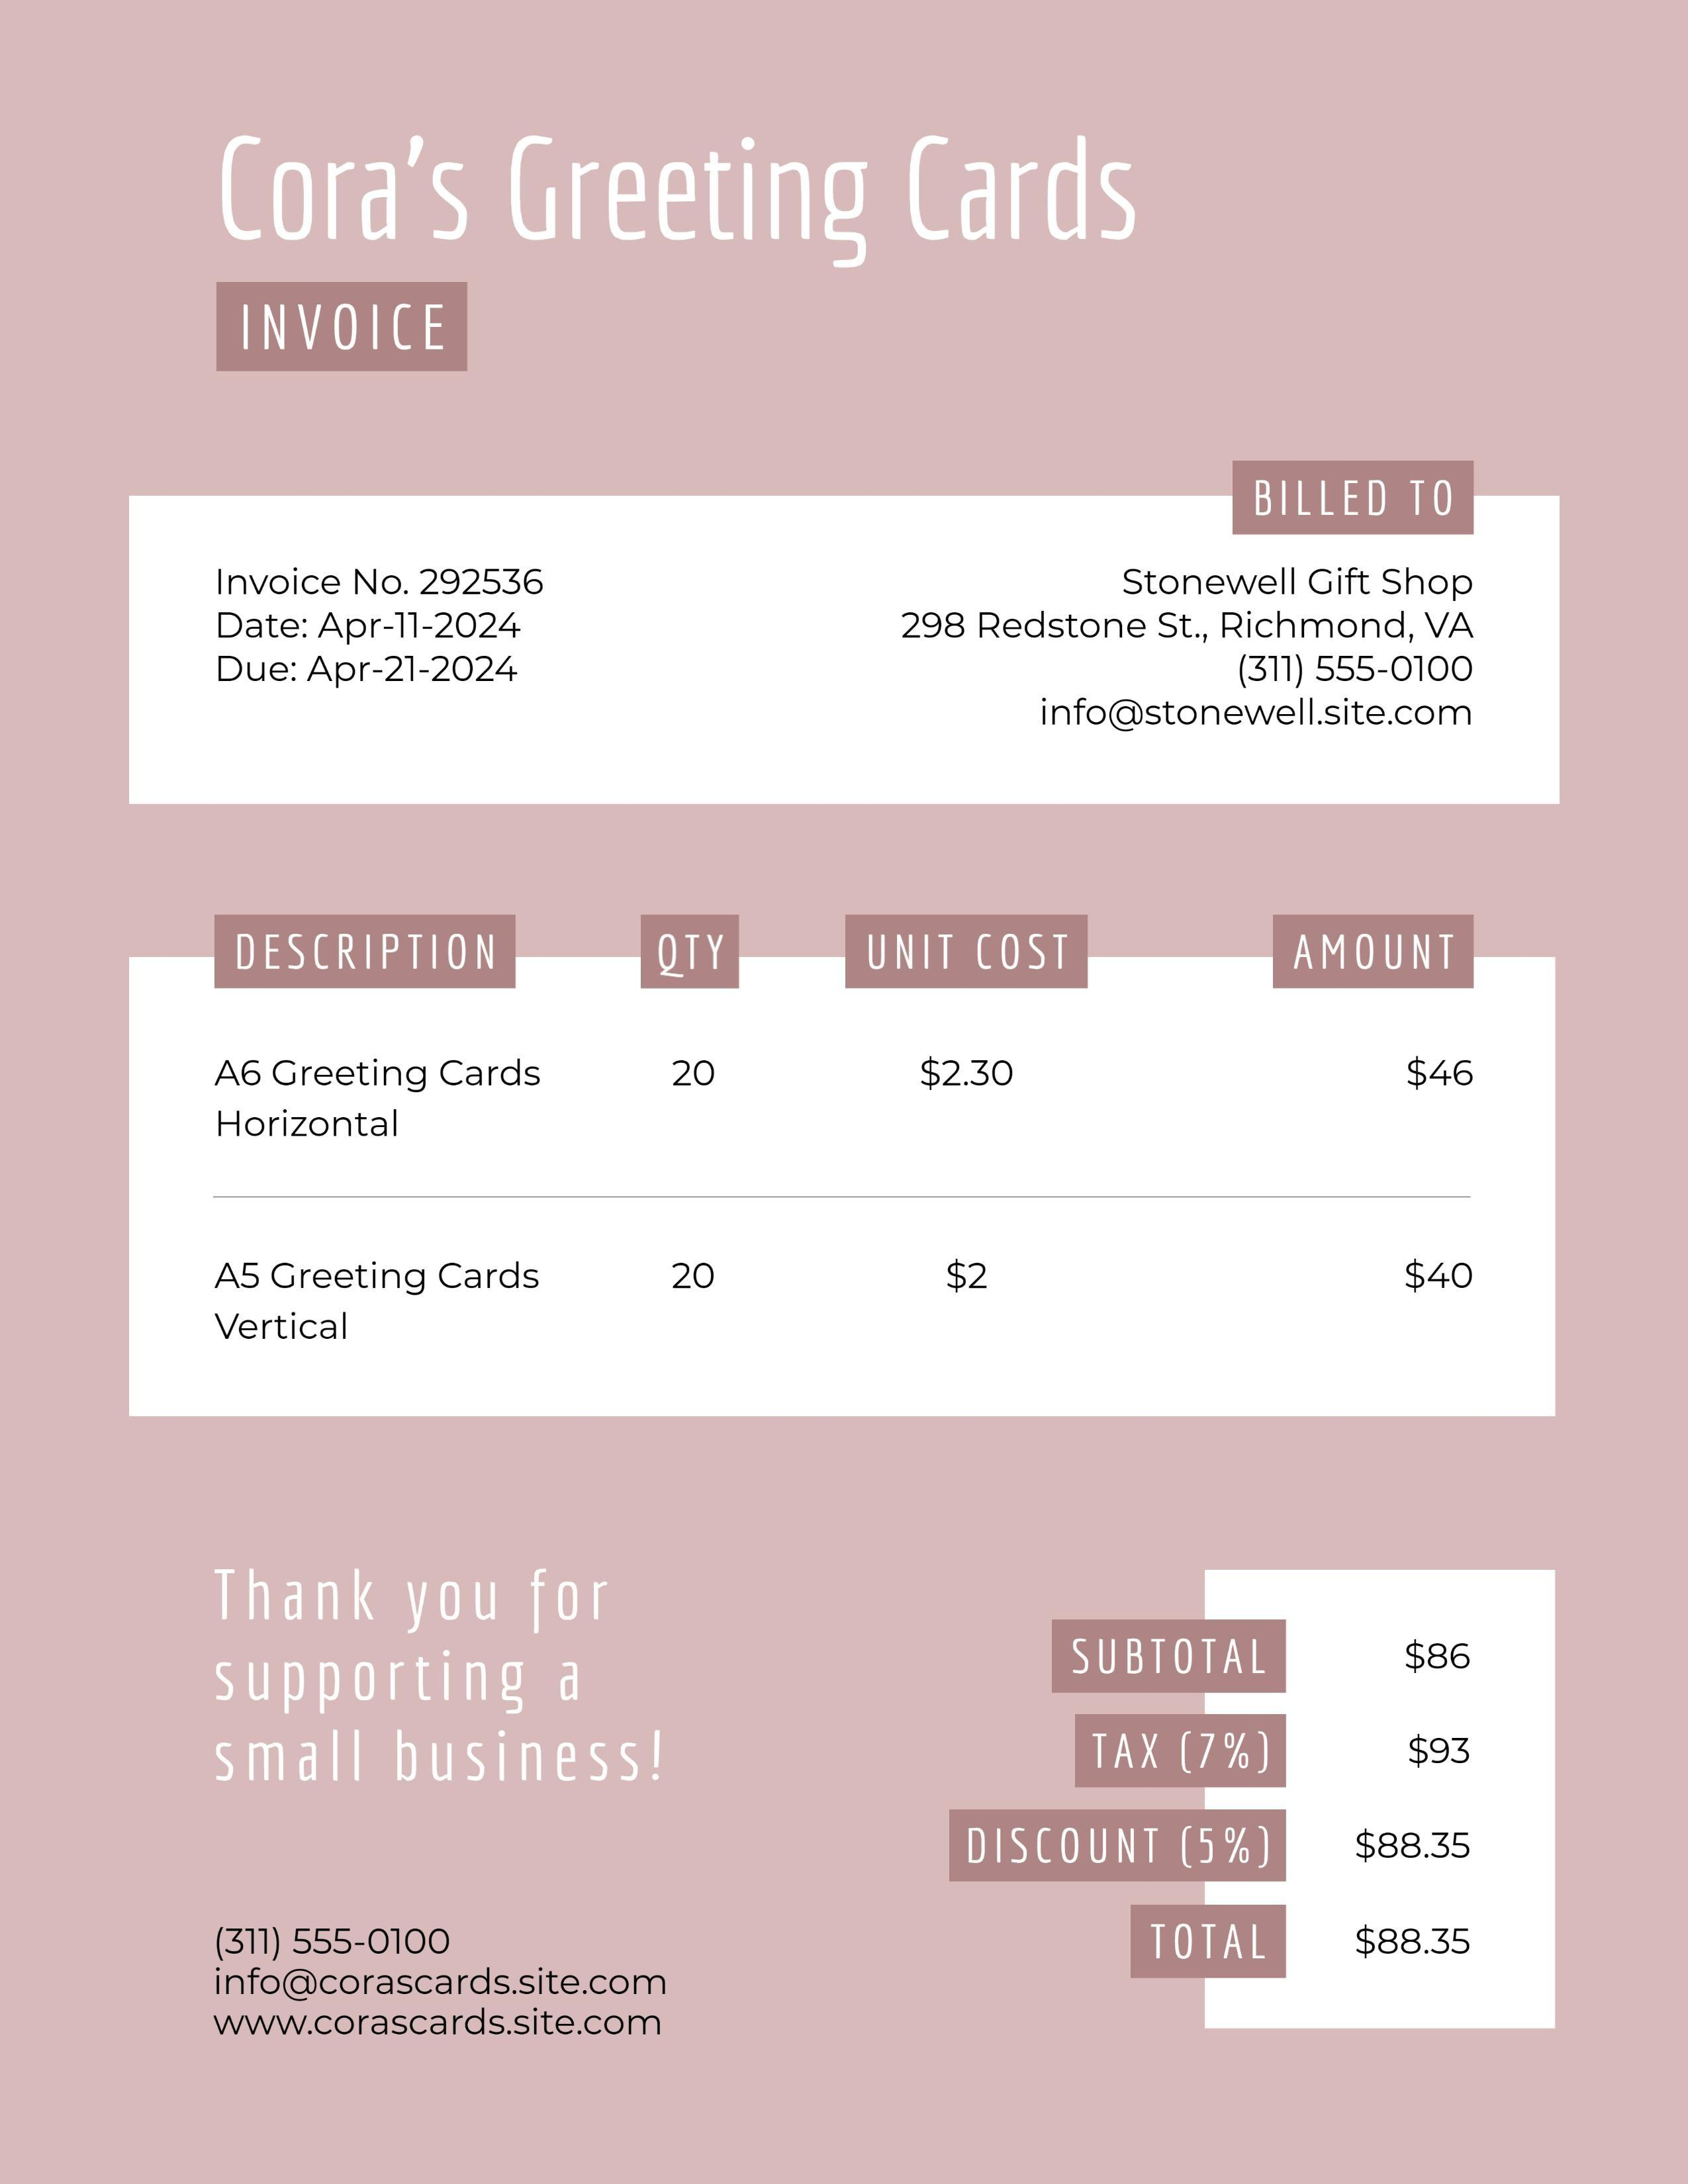ROI: (121, 886, 1566, 1437), (914, 1515, 1566, 2044), (201, 102, 1156, 262), (861, 547, 1495, 748), (187, 557, 575, 729)
